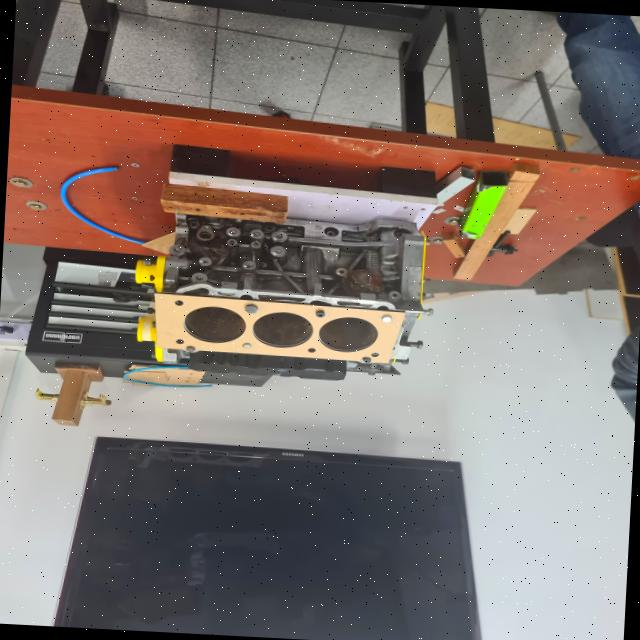tor_v1: (153, 293, 406, 364)
